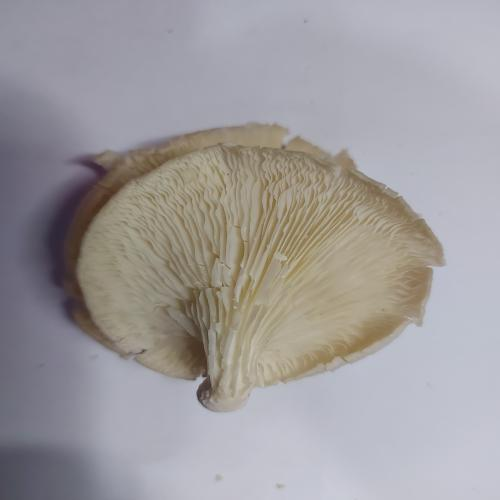Oyster Mushroom: (62, 125, 446, 413)
